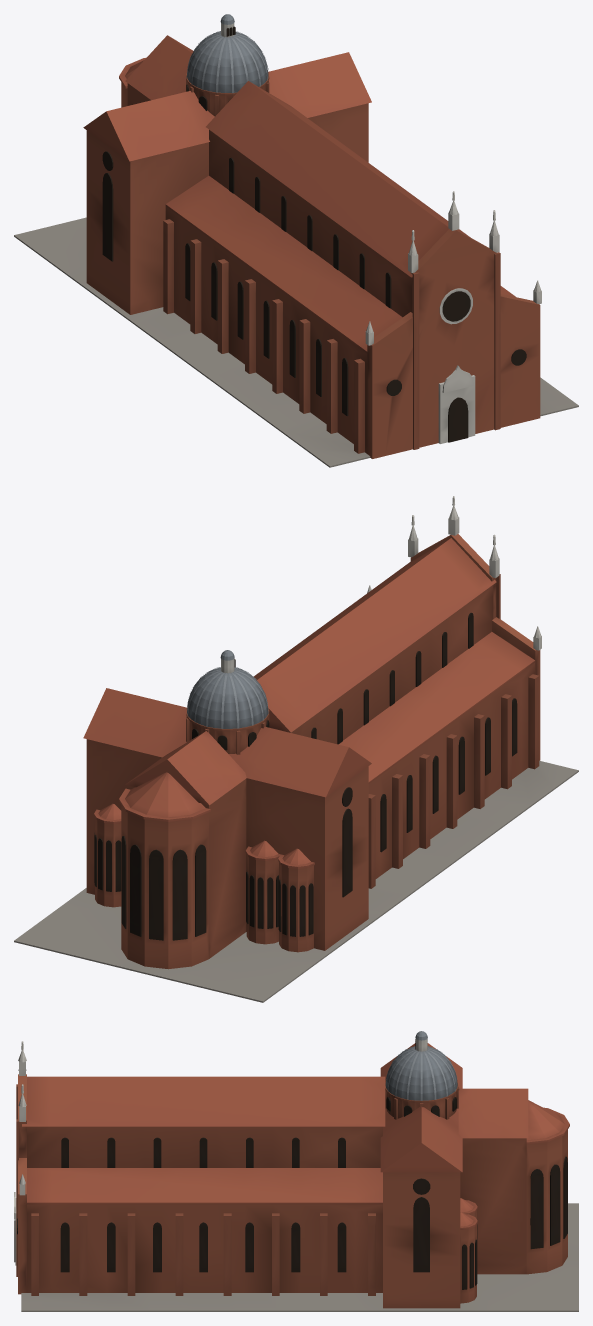
The model's file is zanipolo.glb.
3 renders of one model, top to bottom at view 1: azimuth 30°, elevation 25°; view 2: azimuth 150°, elevation 25°; view 3: azimuth 270°, elevation 25°, orthographic. The views are drawn at different scales.
Parts seen in each view (by area): view 1: p1_roofs, p0_walls, p2_dome; view 2: p0_walls, p1_roofs, p2_dome; view 3: p0_walls, p1_roofs, p2_dome.
Boxes of the visible parts, left/top/right/bottom form: p1_roofs: left=83, top=35, right=541, bottom=458; p0_walls: left=14, top=57, right=578, bottom=467; p2_dome: left=186, top=14, right=269, bottom=116; p0_walls: left=14, top=585, right=578, bottom=1002; p1_roofs: left=83, top=496, right=541, bottom=805; p2_dome: left=186, top=650, right=269, bottom=754; p0_walls: left=21, top=1100, right=578, bottom=1311; p1_roofs: left=14, top=1041, right=528, bottom=1294; p2_dome: left=385, top=1031, right=459, bottom=1119.
Bounding box in the file's own units: 46 × 45.29 × 102.
